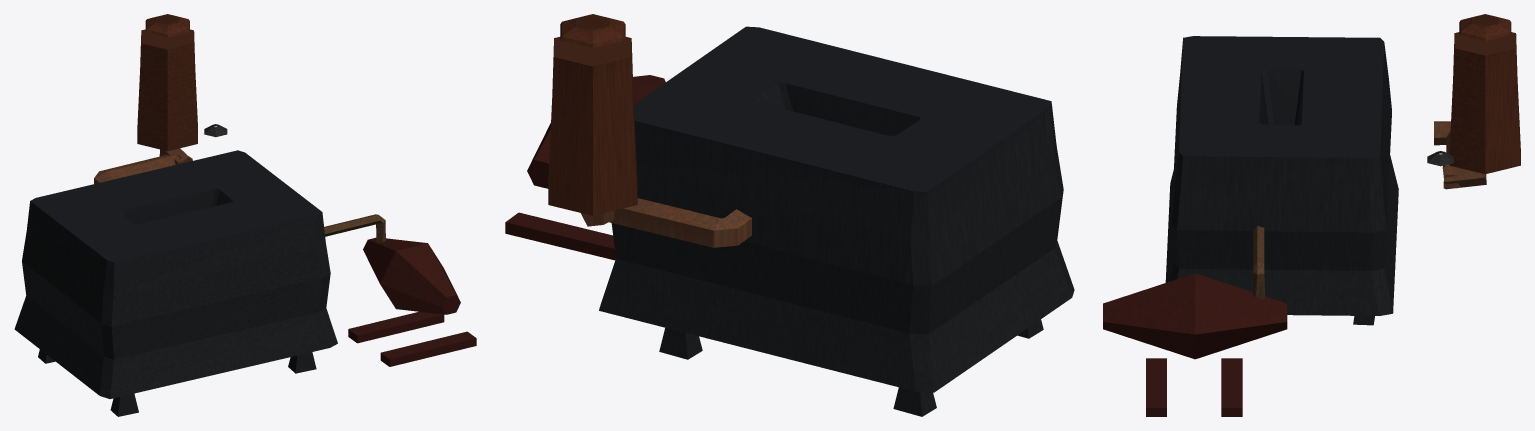
File: refinery_lod2.glb
3 views of the same model, side by side, from view 1: azimuth 30°, elevation 25°; view 2: azimuth 150°, elevation 25°; view 3: azimuth 270°, elevation 25° (orthographic). The views are drawn at different scales.
Parts seen in each view (by area): view 1: LOD2_refinery; view 2: LOD2_refinery; view 3: LOD2_refinery.
Part boxes in pixels (x1,y1,x2,y2): LOD2_refinery: [14, 14, 476, 416]; LOD2_refinery: [505, 14, 1074, 416]; LOD2_refinery: [1103, 14, 1520, 416].
Bounding box in the file's own units: 1.74 × 1.2 × 1.5.
Materials: 3 (1 with a texture image).
